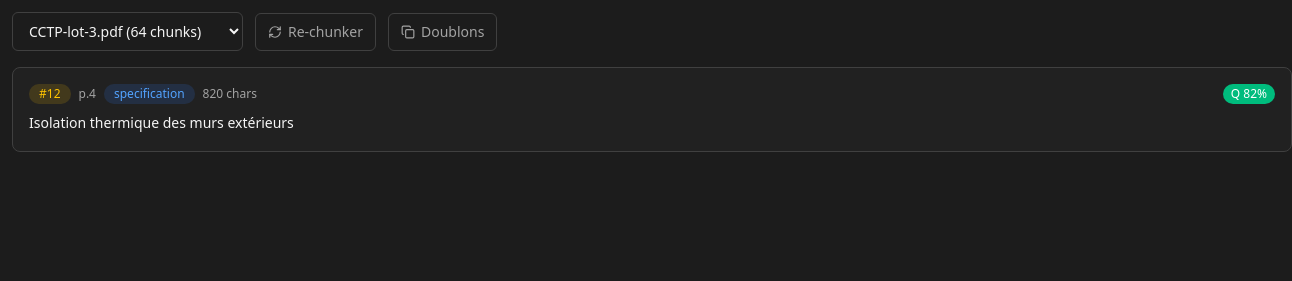
Test: DocumentChunkView — a failed document load says so, and keeps the picker › closes the armed re-chunk confirmation when the user switches document, so Confirmer cannot hit the new one
This screenshot has width=1292, height=281.
Step 1. Click the button "Re-chunker" → (316,32), box [255,12,376,50]
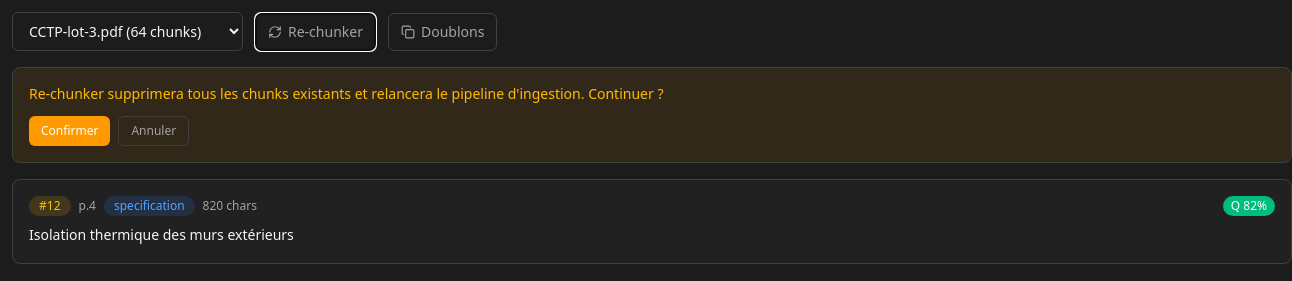
Check: the button "Confirmer" is shown, box [29,116,110,146]
Step 2. Select "CCTP-lot-5.pdf (64 chunks)" in the dropdown → (128,32), box [12,12,243,51]
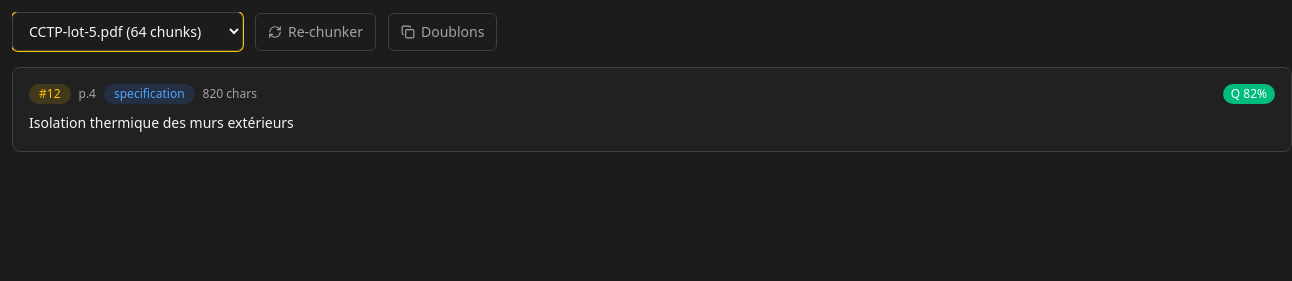
Check: the button "Confirmer" is gone
